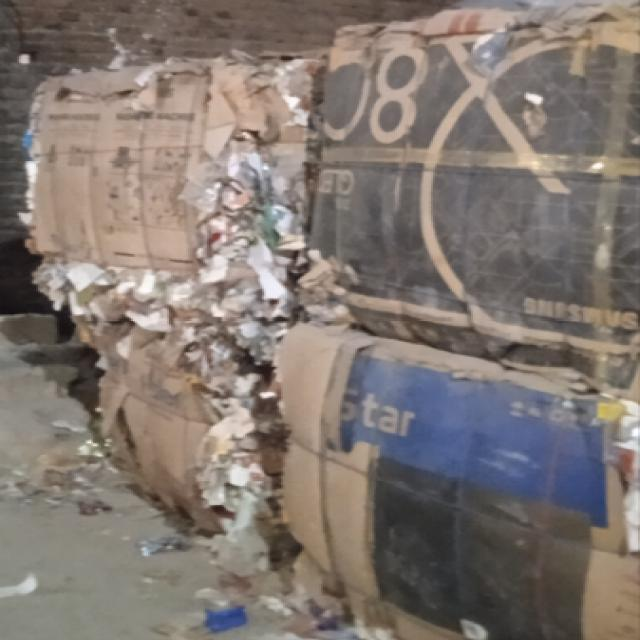electronic: (25, 52, 319, 550), (275, 320, 625, 639), (318, 1, 638, 322)
